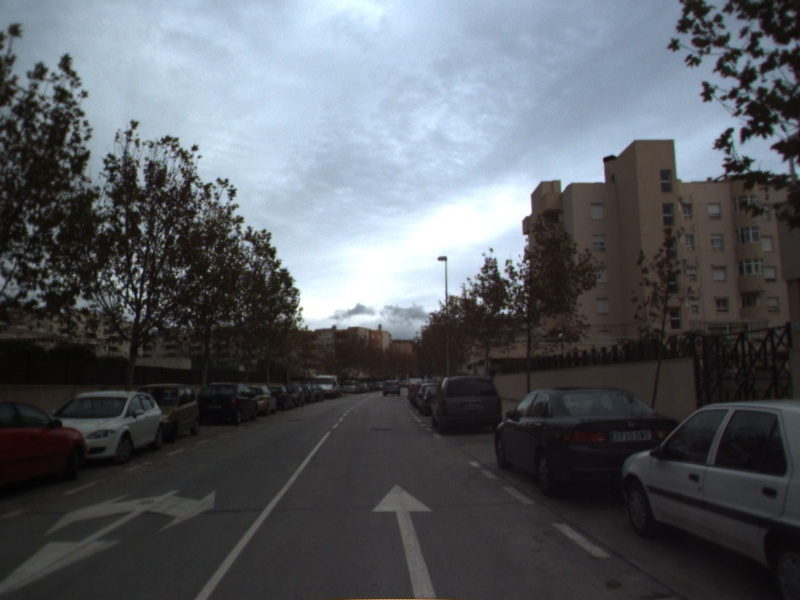STRAIGHT: (369, 481, 438, 600)
